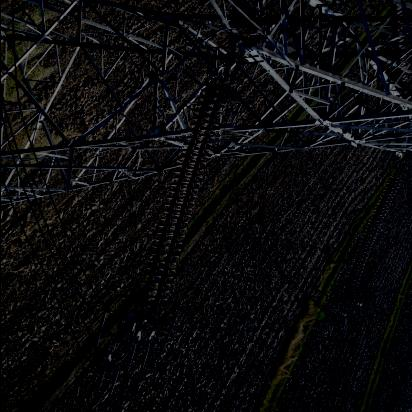insulator: (126, 70, 241, 317), (347, 163, 403, 297)
